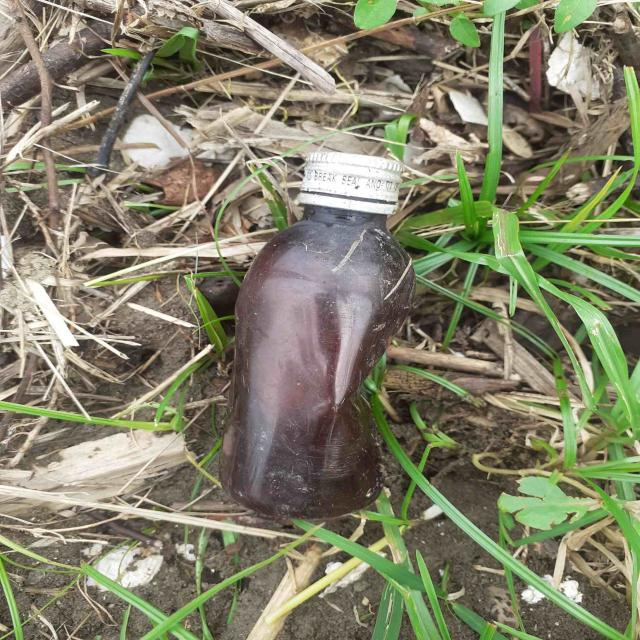glass: (220, 151, 415, 520)
